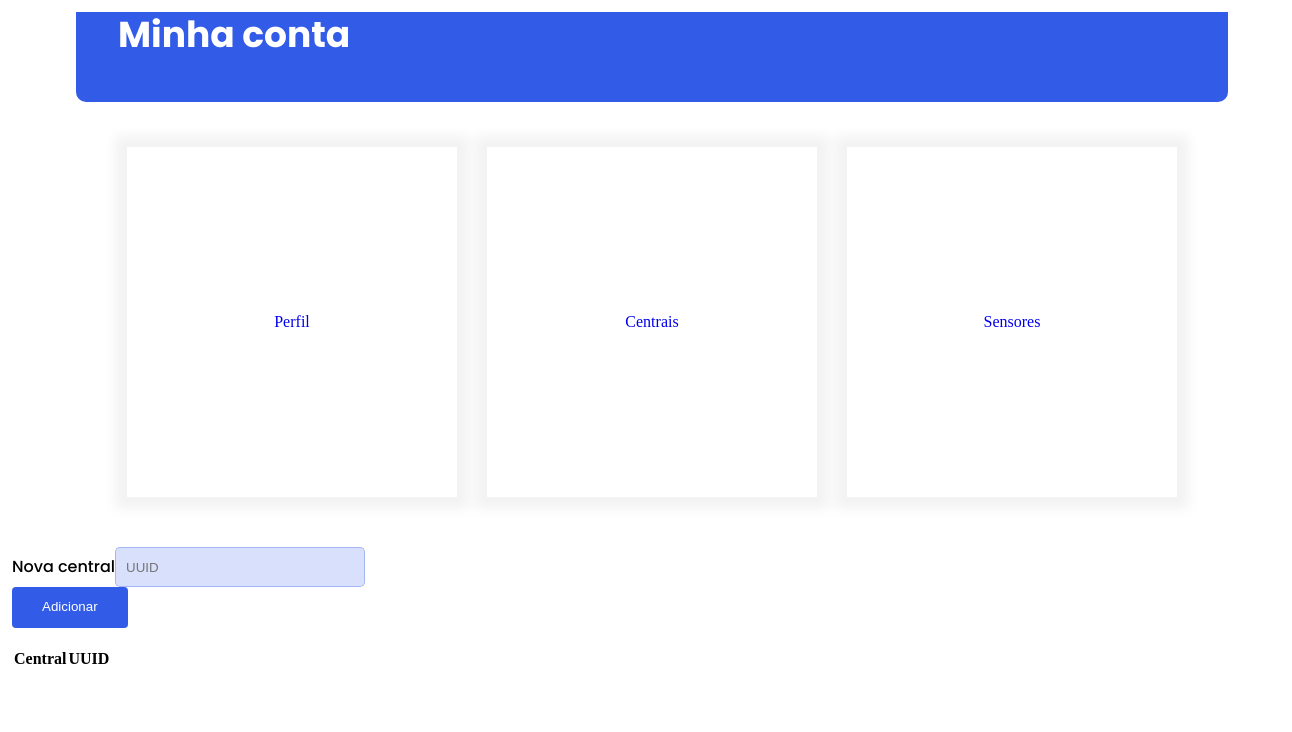
Test: the things tab › turns a 409 from linking into the expected message
Type "a-b-c-d" into the field labelled "Nova central" at (240,567), box [115,547,365,587]
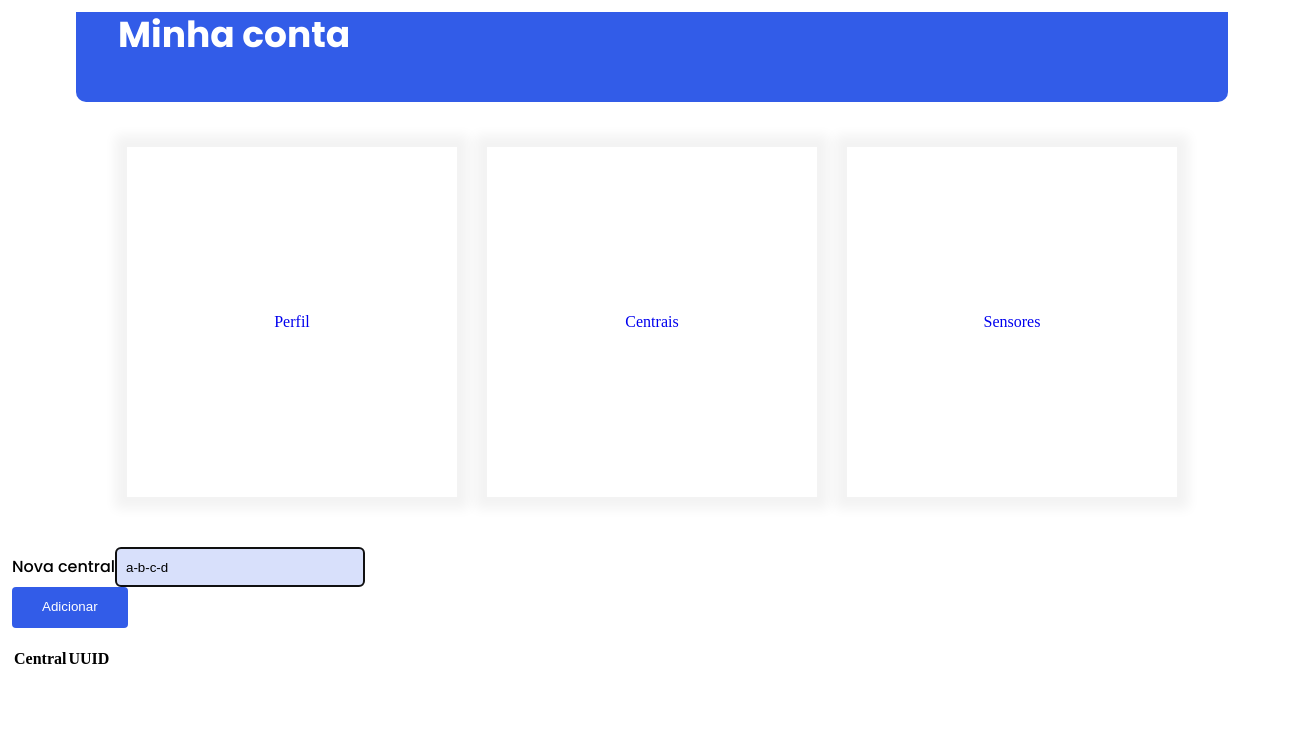
Click the button "Adicionar" at (70,608), box [12,587,128,628]
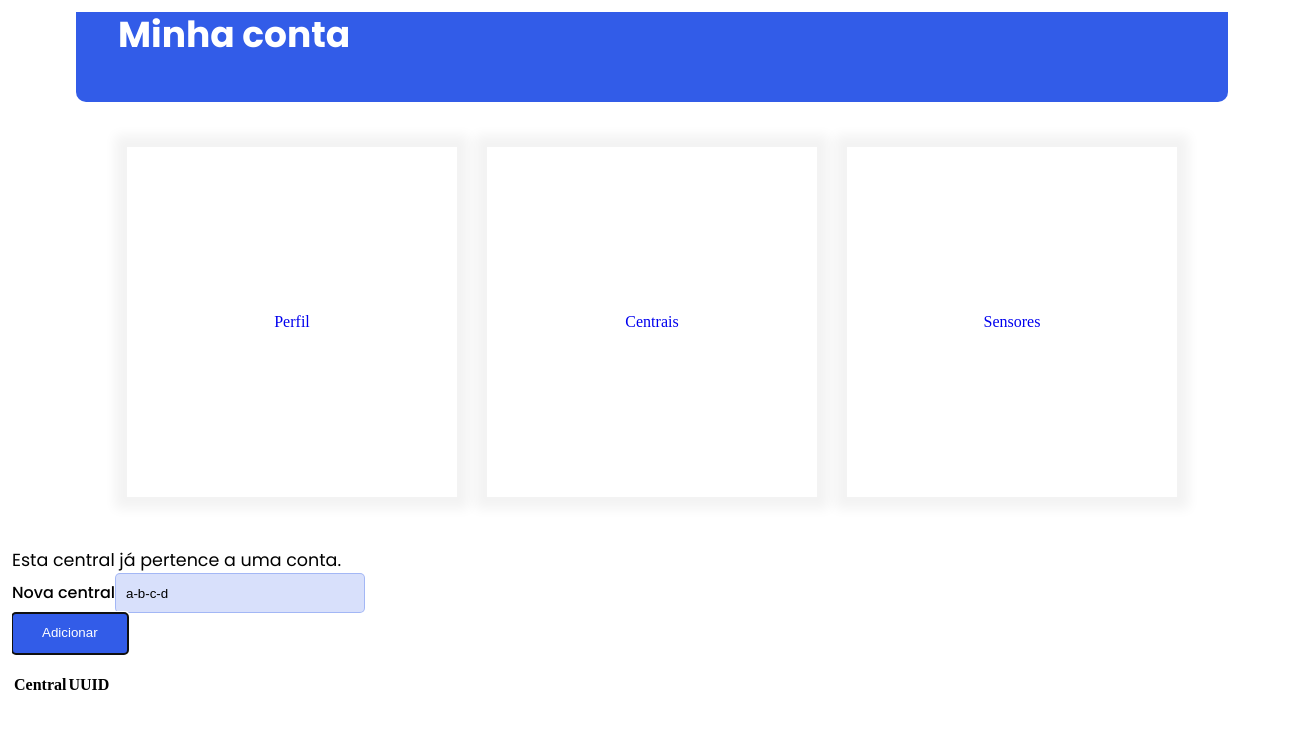
Check: the text "Esta central já pertence a uma conta." is shown, box [12,548,341,572]
